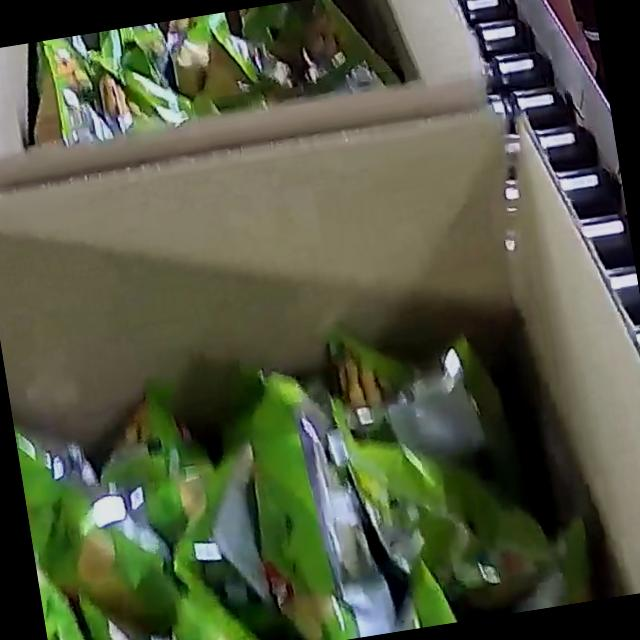yogurt: (6, 302, 577, 640), (35, 0, 406, 149)
